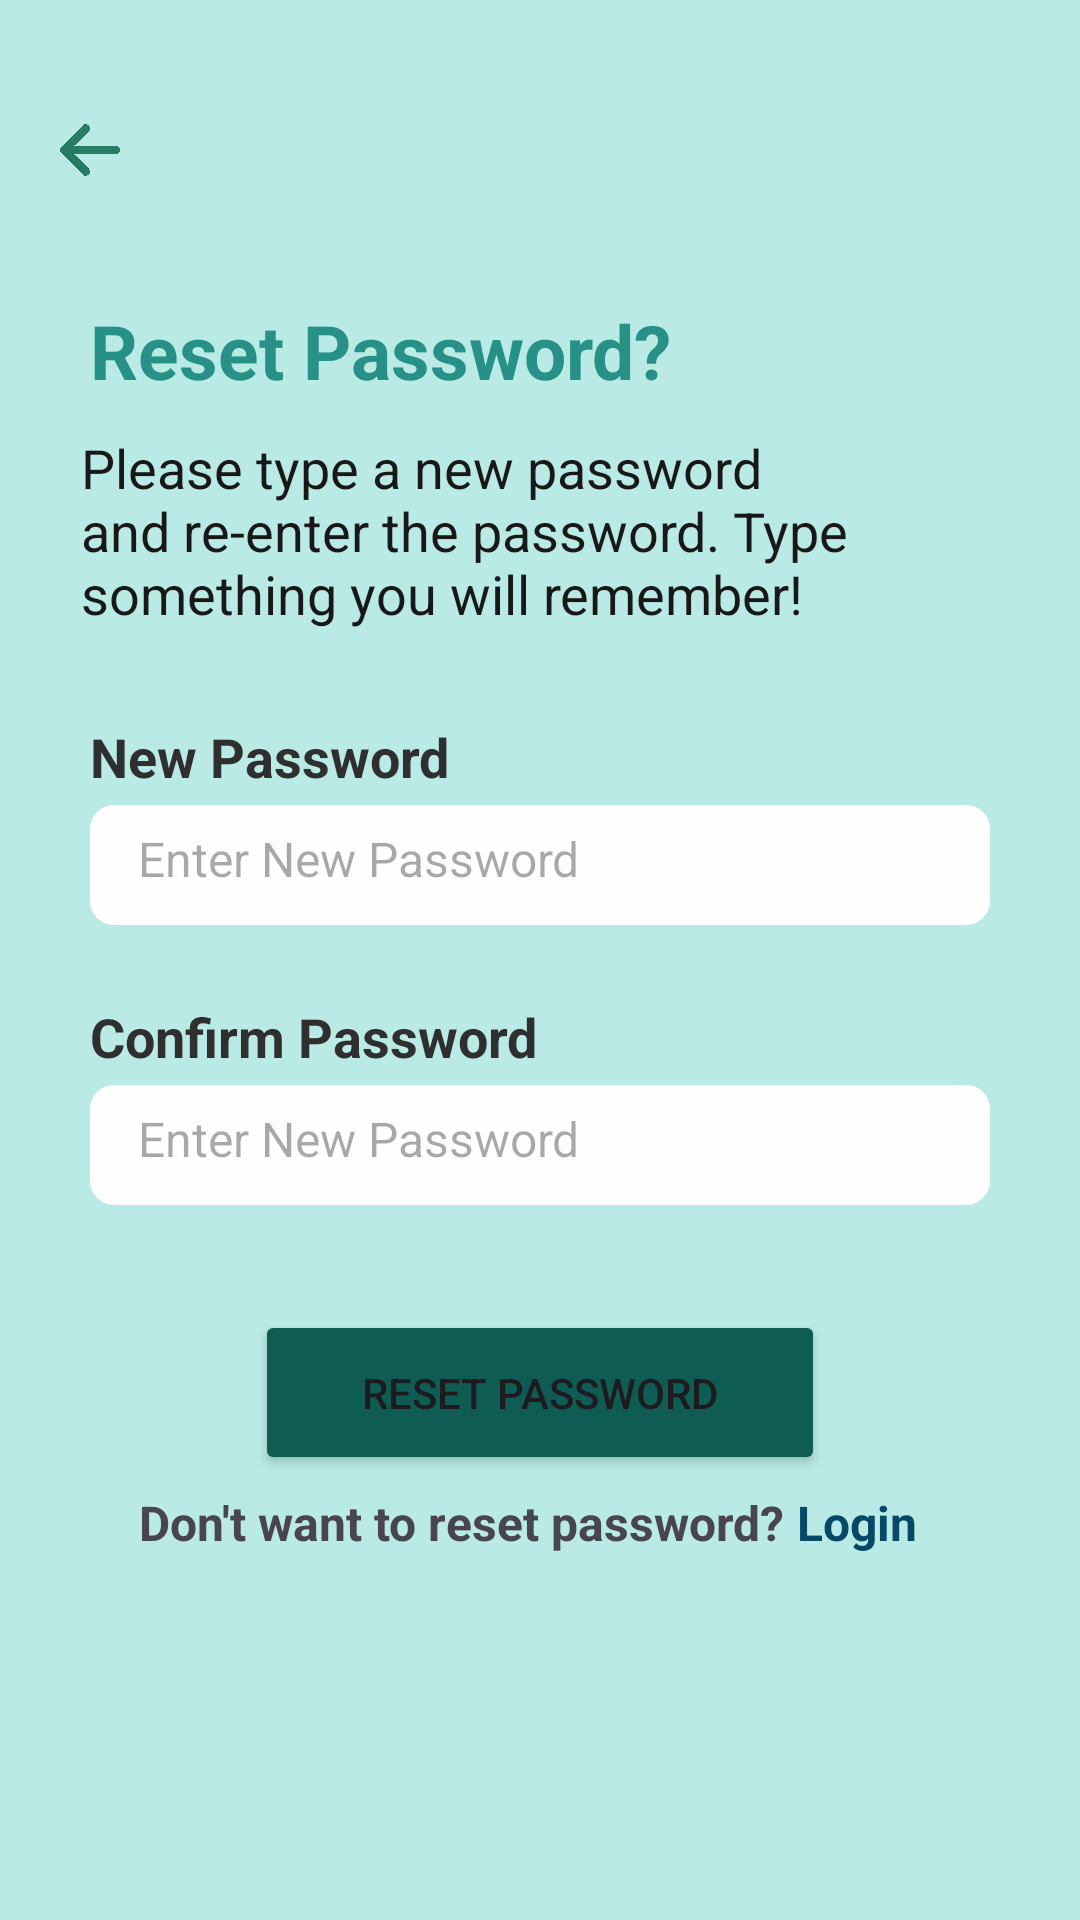

Point at icon controls on the screen. Image size 1080w x 1920h, points as [x,y].
arrow: [90,150]
